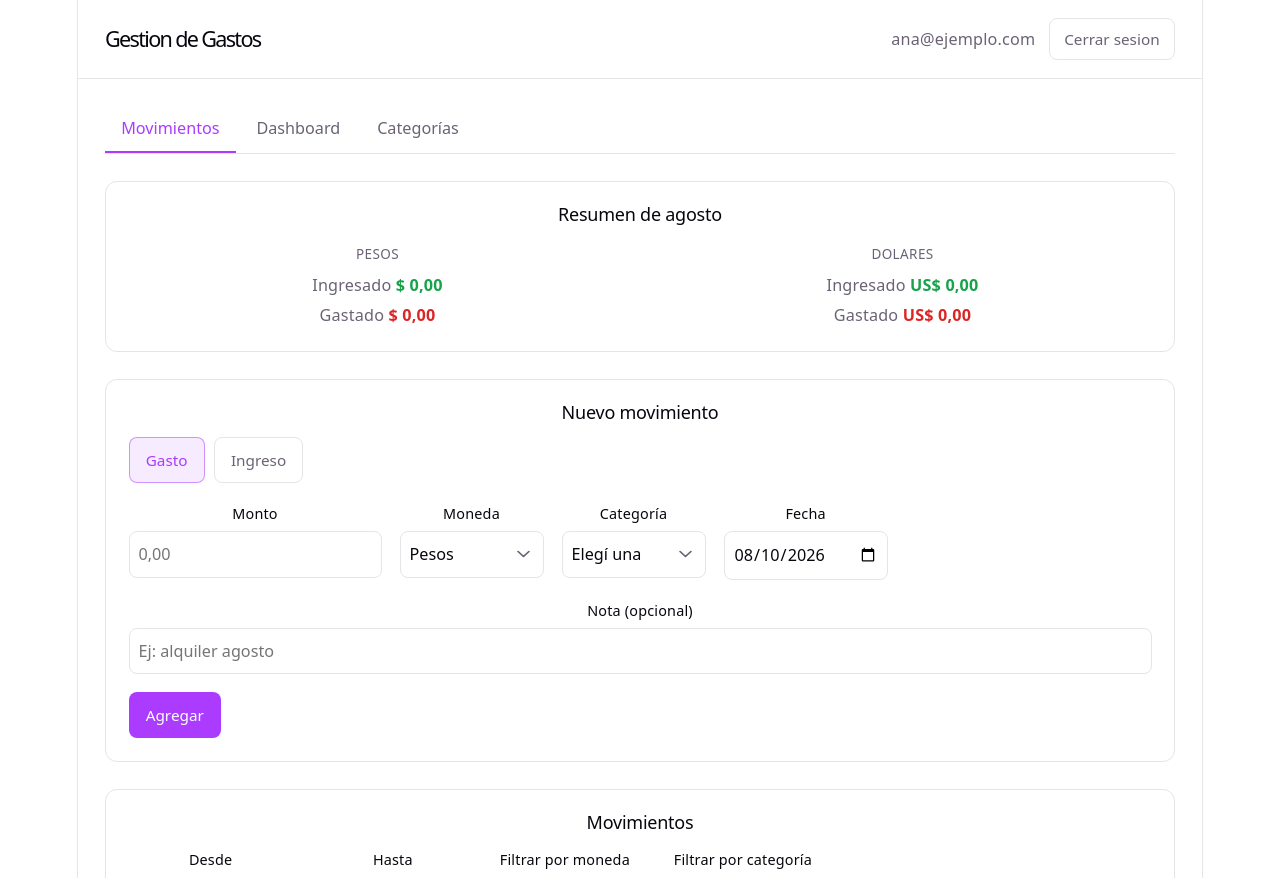
Test: ABM de categorías (RF-07 a RF-09) › si el backend rechaza la operación, se muestra su mensaje
This screenshot has width=1280, height=878.
Step 1. Click the tab "Categorías" → (418, 130), box [361, 106, 475, 153]
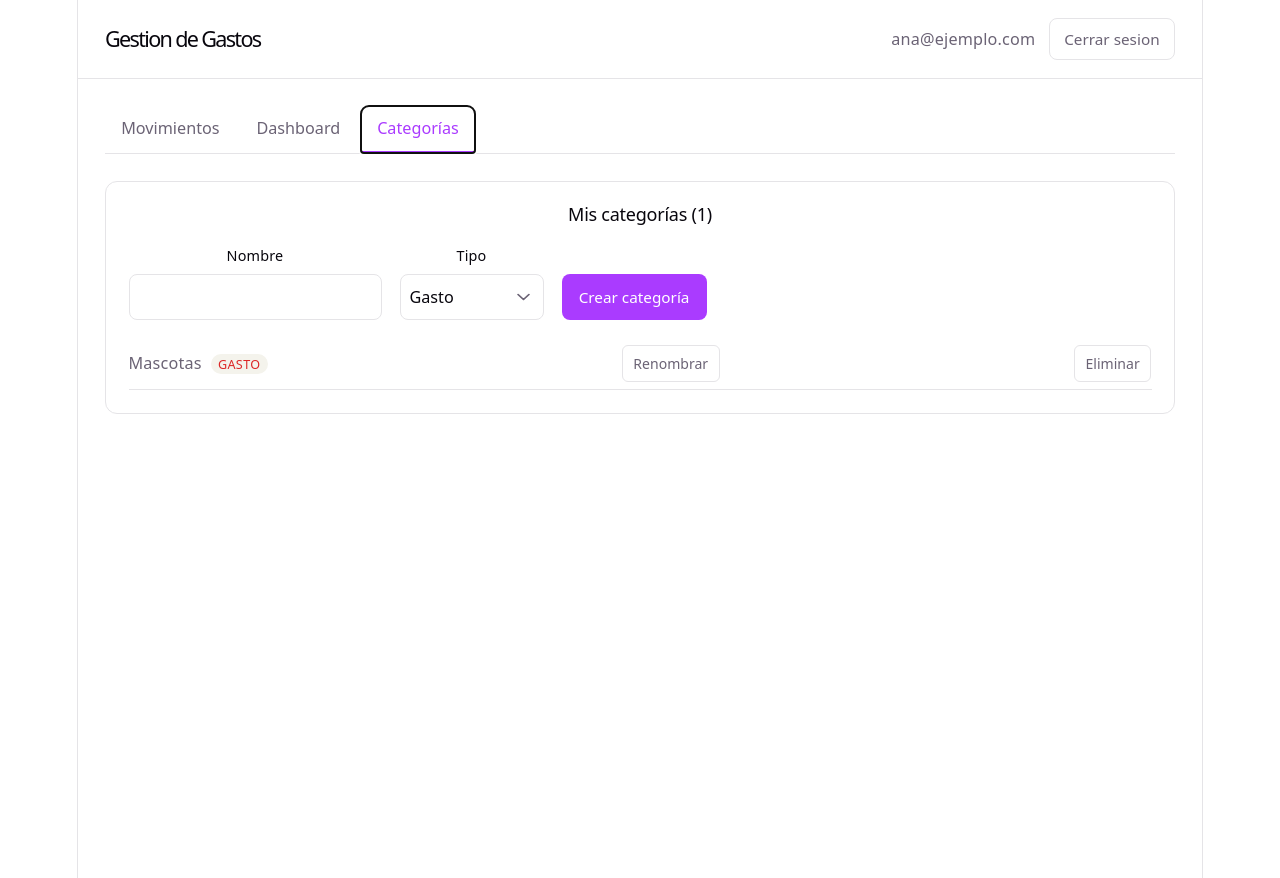
Expected: the heading "Mis categorías (1)" is shown, [568, 202, 712, 226]
Step 2. Type "x" into the field labelled "Nombre" → (255, 297), box [128, 274, 382, 320]
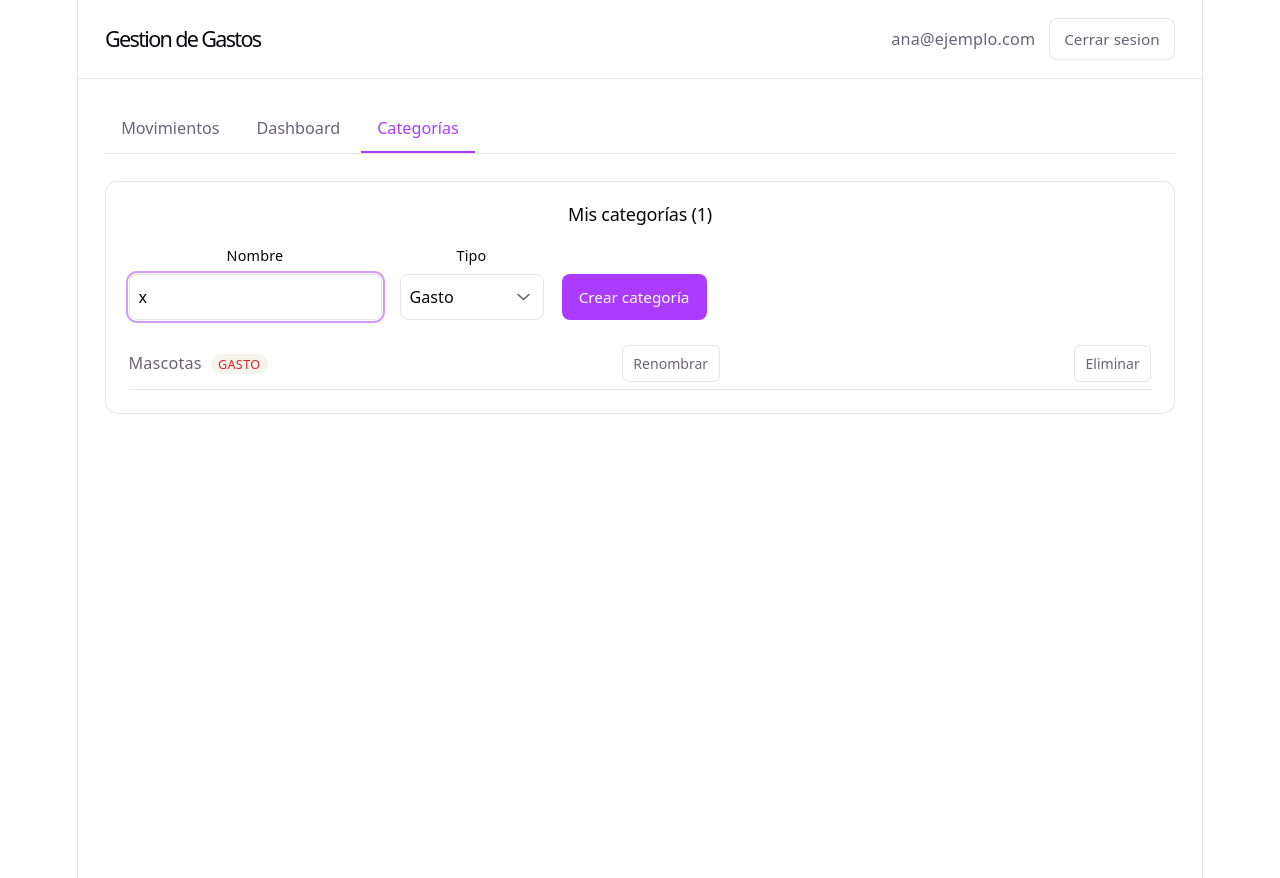
Step 3. Click the button "Crear categoría" → (634, 297), box [562, 274, 707, 320]
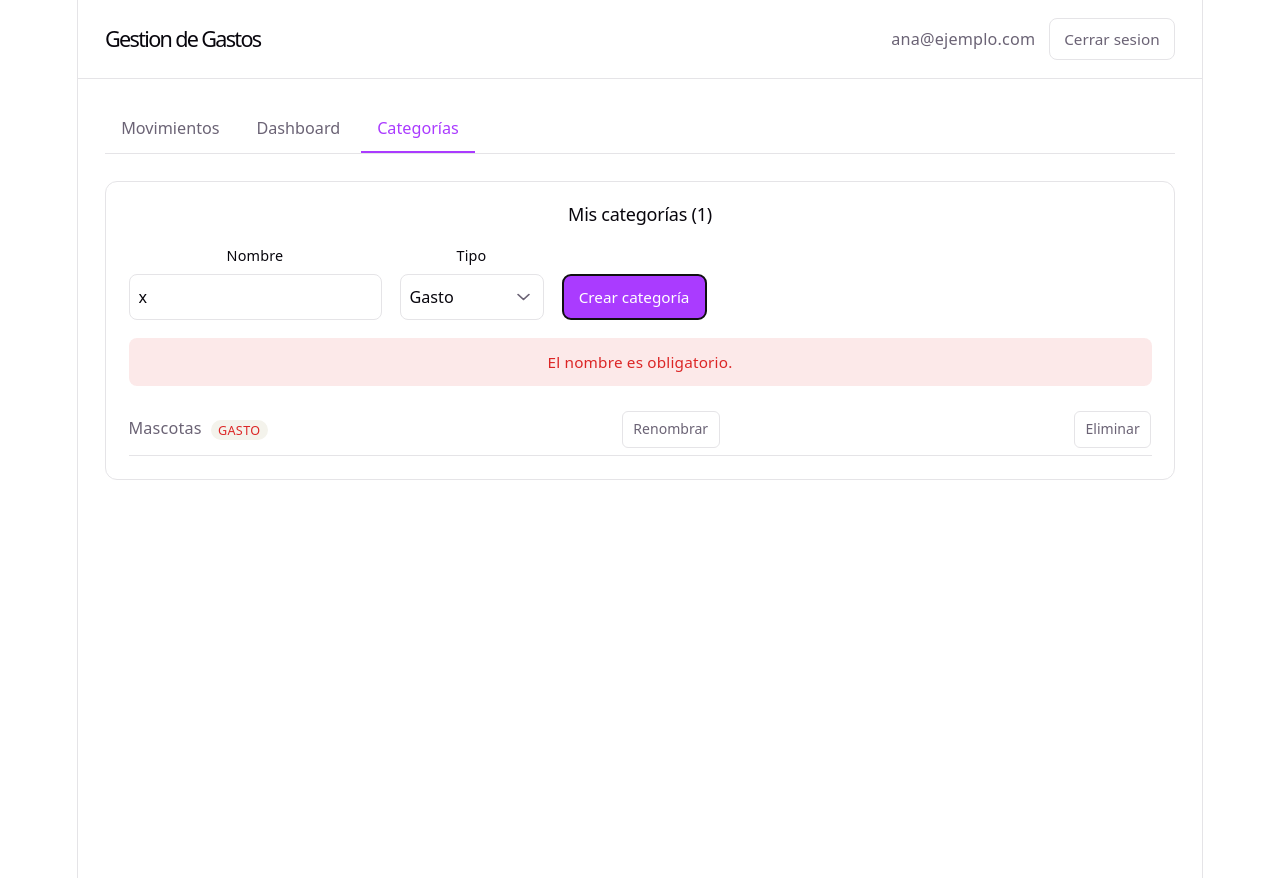
Expected: the message reads "El nombre es obligatorio.", [548, 352, 732, 372]
